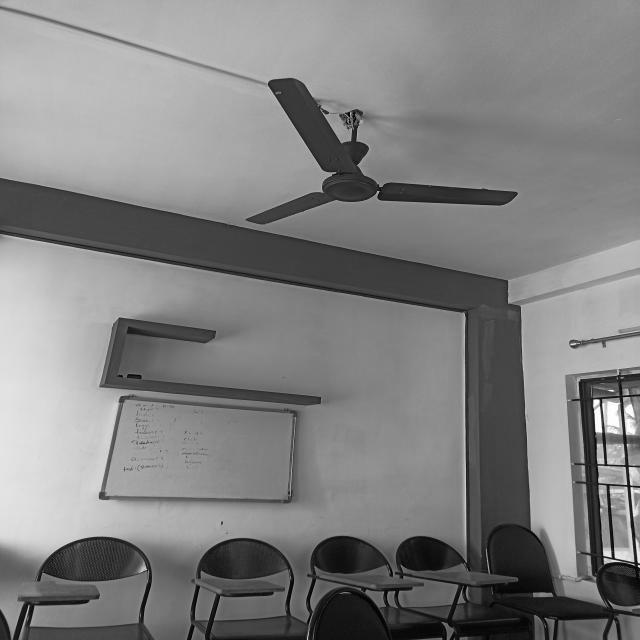fan: (244, 77, 518, 225)
